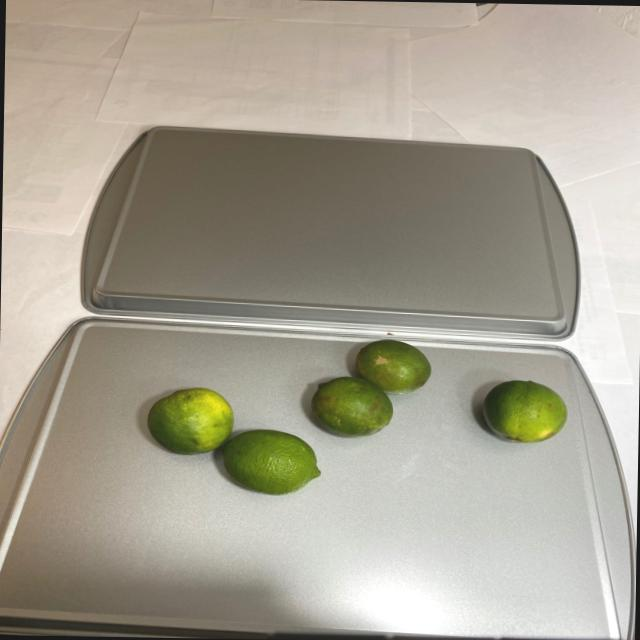lemon: (140, 334, 436, 498), (480, 378, 570, 446)
